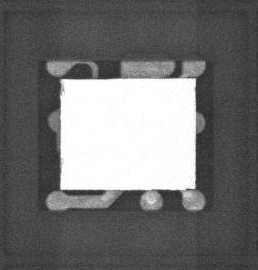DIE_INK: (58, 78, 65, 99)
